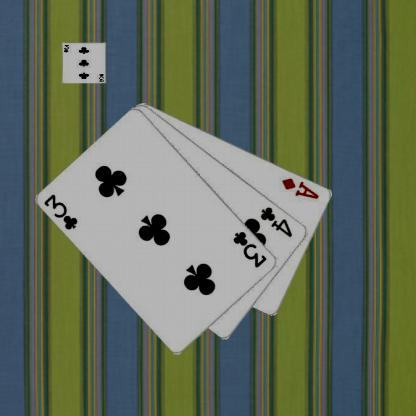3C: (41, 192, 79, 232), (231, 228, 268, 269)
4C: (258, 204, 294, 238)
AD: (280, 174, 320, 200)
